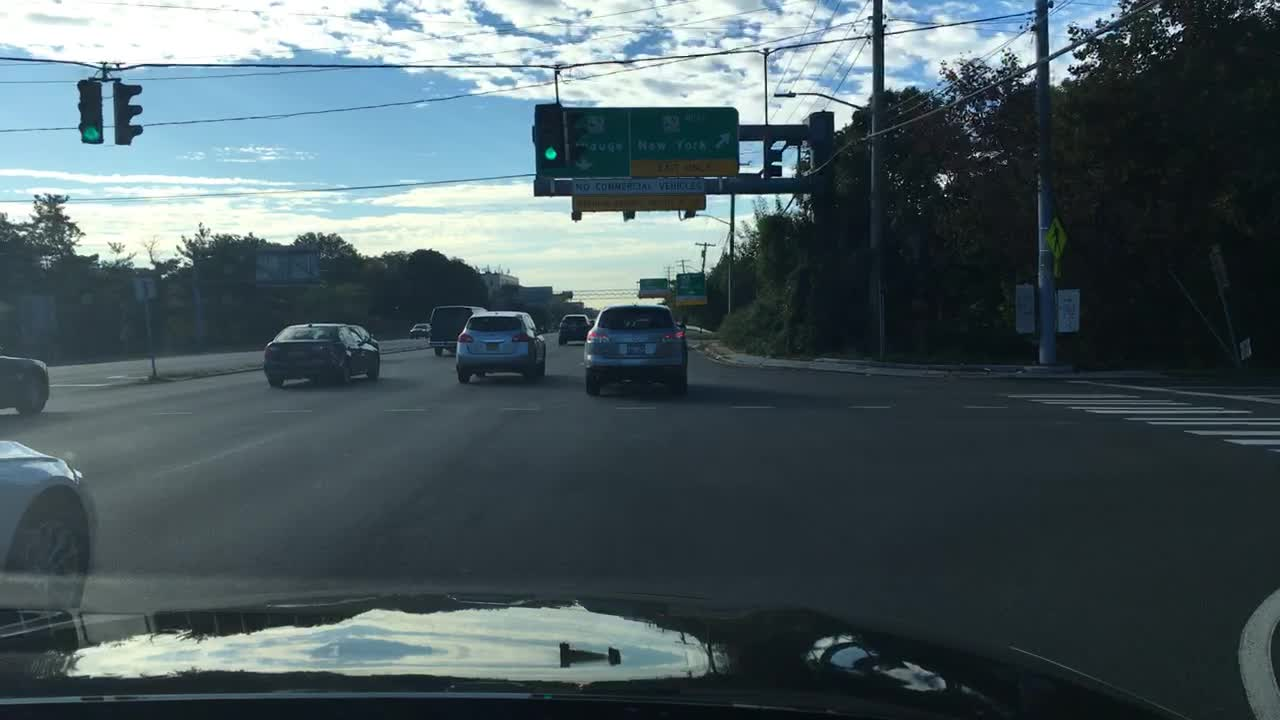car: (0, 440, 102, 618), (586, 303, 690, 397), (265, 320, 380, 390), (454, 308, 549, 384), (0, 357, 55, 414), (432, 303, 491, 356), (556, 314, 591, 344), (410, 322, 432, 338)
traffic light: (111, 80, 142, 148), (534, 103, 563, 168), (76, 78, 104, 142), (765, 146, 783, 177)
traffic sign: (586, 107, 740, 178), (574, 177, 704, 212), (255, 250, 325, 285), (675, 274, 710, 307), (1040, 219, 1069, 257), (1056, 289, 1080, 331), (131, 269, 157, 298), (635, 278, 666, 298)
